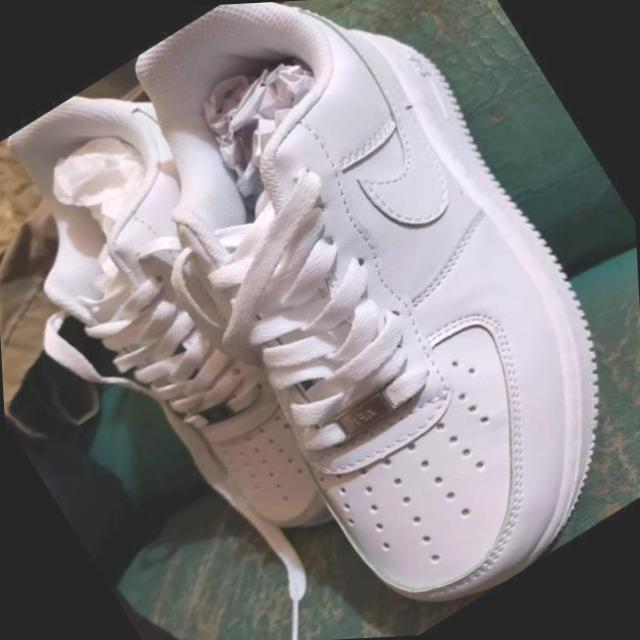nike_fake_airforce: (51, 0, 640, 640), (0, 26, 438, 619)
